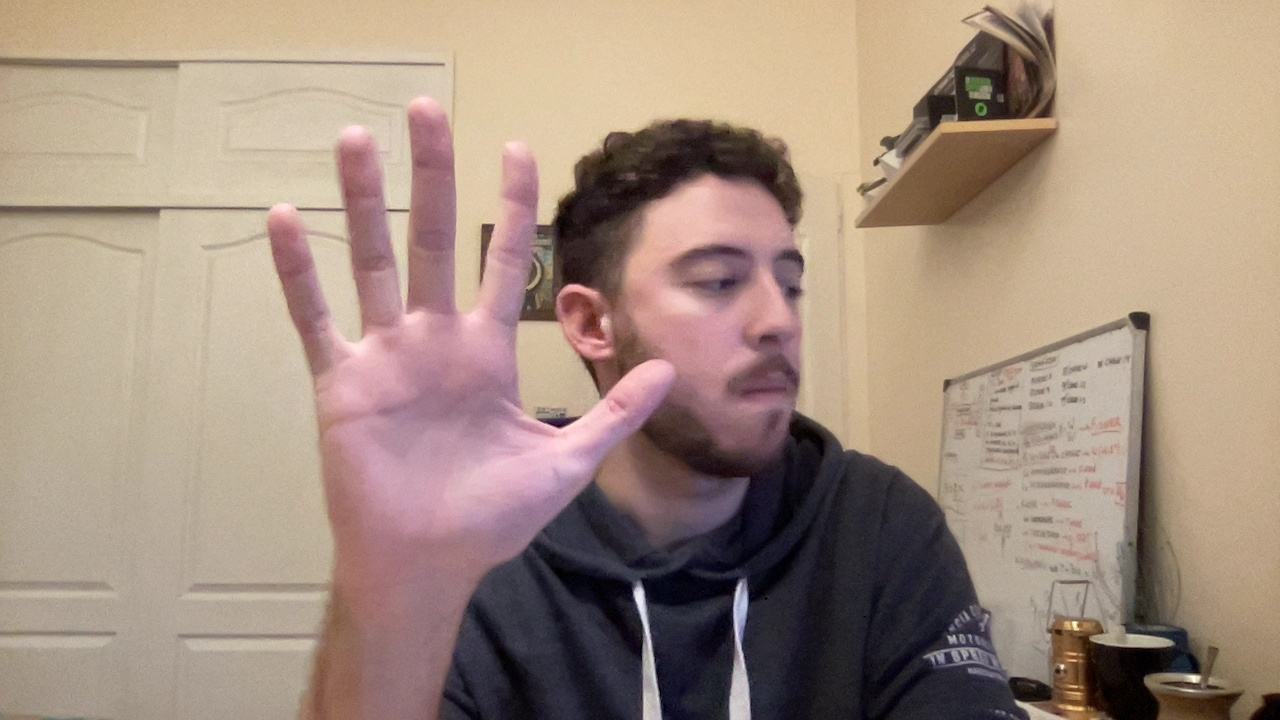abierto: (236, 98, 687, 552)
